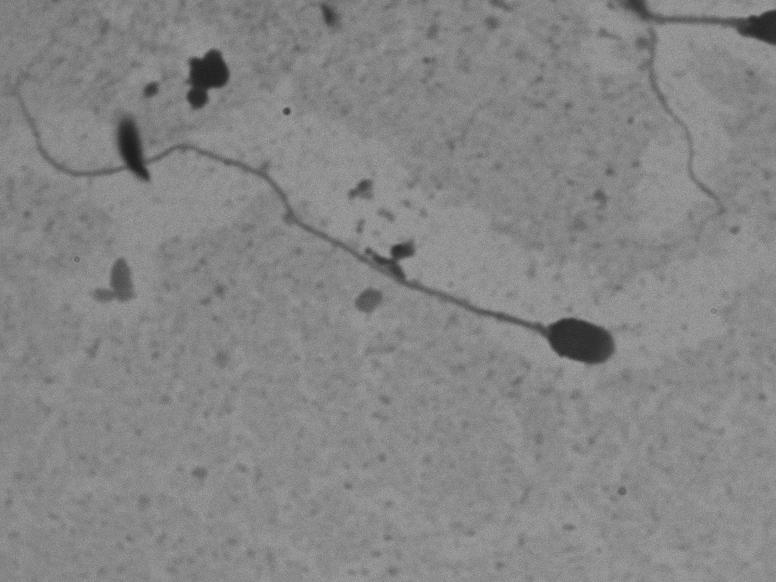Normal: (14, 40, 633, 393)
